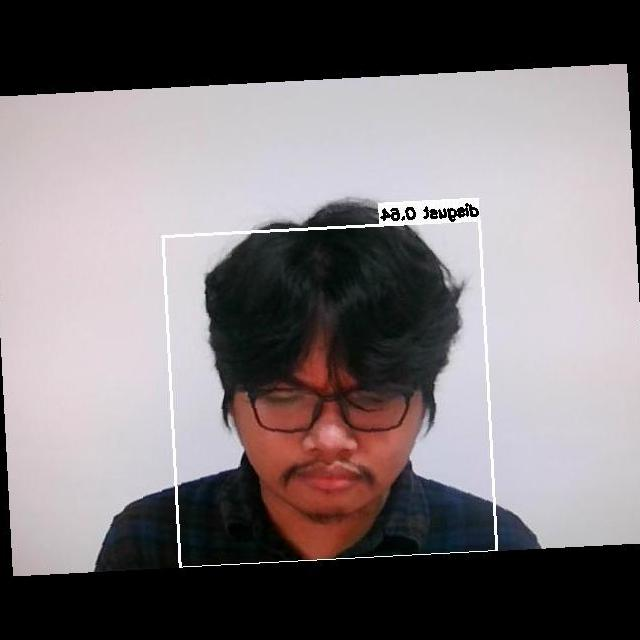Angry: (229, 351, 431, 499)
